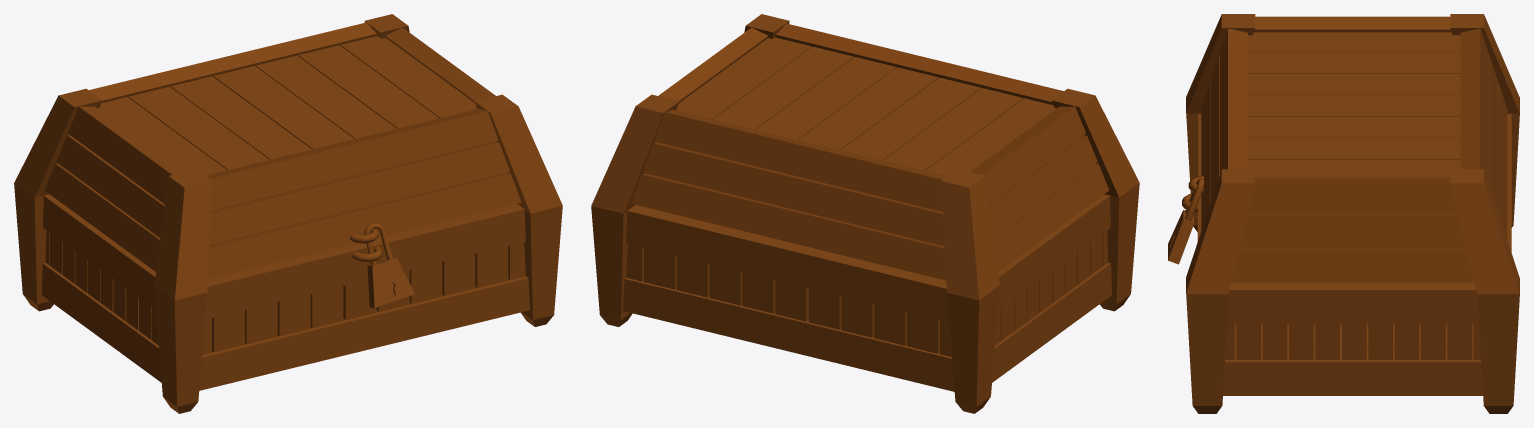
The model's file is Gold Chest.FBX.
3 views of the same model, side by side, from view 1: azimuth 30°, elevation 25°; view 2: azimuth 150°, elevation 25°; view 3: azimuth 270°, elevation 25° (orthographic). The views are drawn at different scales.
Visible parts, largest first — view 1: Group002, Box054, Box055, Box027, Box025, Box026, Box028, Box024, Box080, Box081, Box033, Box032 (+18 smaller); view 2: Group002, Box043, Box053, Box029, Box028, Box030, Box027, Box024, Box080, Box081, Box033, Box032 (+18 smaller); view 3: Group002, Box067, Box068, Box009, Box010, Box011, Box032, Box033, Box034, Box035, Box036, Box037 (+23 smaller).
Boxes of the visible parts, x1,y1,x2,y2 form: Group002: (14,14,562,413); Box054: (205,204,525,319); Box055: (199,276,529,390); Box027: (205,108,498,210); Box025: (208,172,521,279); Box026: (209,141,509,244); Box028: (89,22,377,103); Box024: (68,106,183,204); Box080: (43,194,170,309); Box081: (41,262,161,382); Box033: (213,66,354,149); Box032: (298,45,438,128); Group002: (591,14,1139,413); Box043: (626,205,954,321); Box053: (622,278,954,391); Box029: (631,173,946,280); Box028: (654,109,946,211); Box030: (643,142,944,246); Box027: (775,23,1063,104); Box024: (970,106,1085,203); Box080: (987,194,1113,309); Box081: (992,262,1111,382); Box033: (798,67,938,150); Box032: (713,46,853,129); Group002: (1186,14,1519,413); Box067: (1227,282,1478,323); Box068: (1223,353,1482,395); Box009: (1231,248,1474,282); Box010: (1239,213,1465,248); Box011: (1248,177,1457,213); Box032: (1248,138,1460,159); Box033: (1248,95,1460,116); Box034: (1248,116,1460,137); Box035: (1248,52,1460,73); Box036: (1248,73,1460,94); Box037: (1248,32,1460,51).
Bounding box in the file's own units: 34.78 × 18.31 × 26.28.
